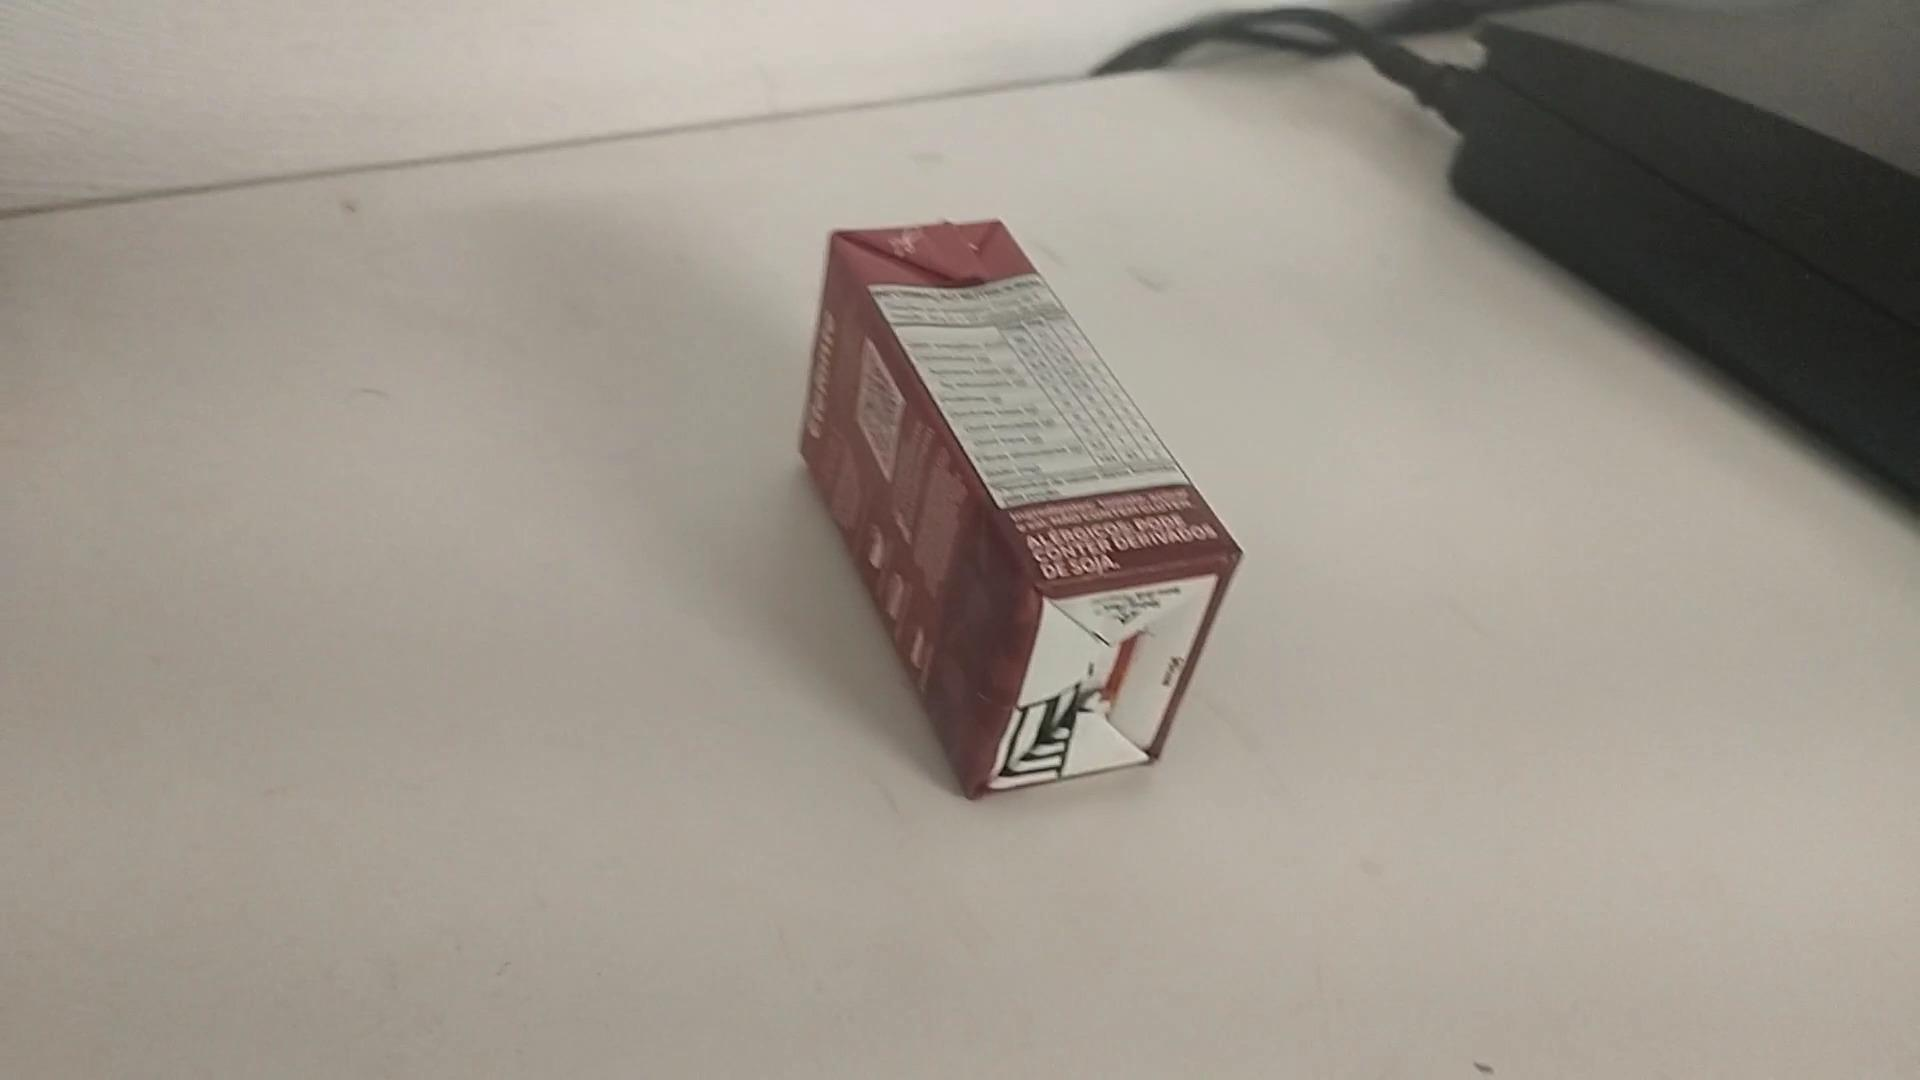tomate: (781, 202, 1255, 807)
